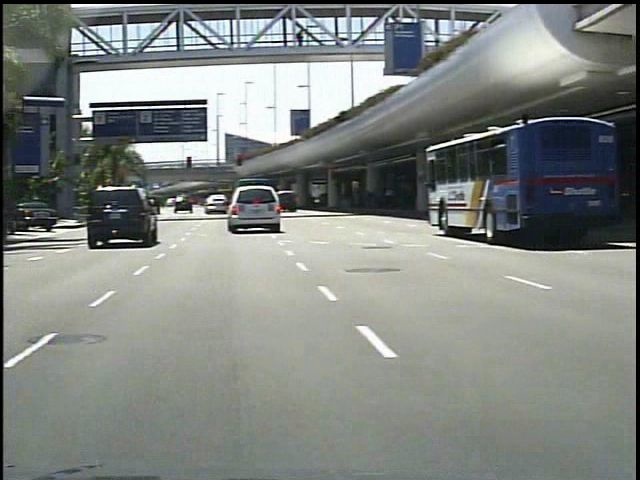person: (282, 28, 300, 53)
